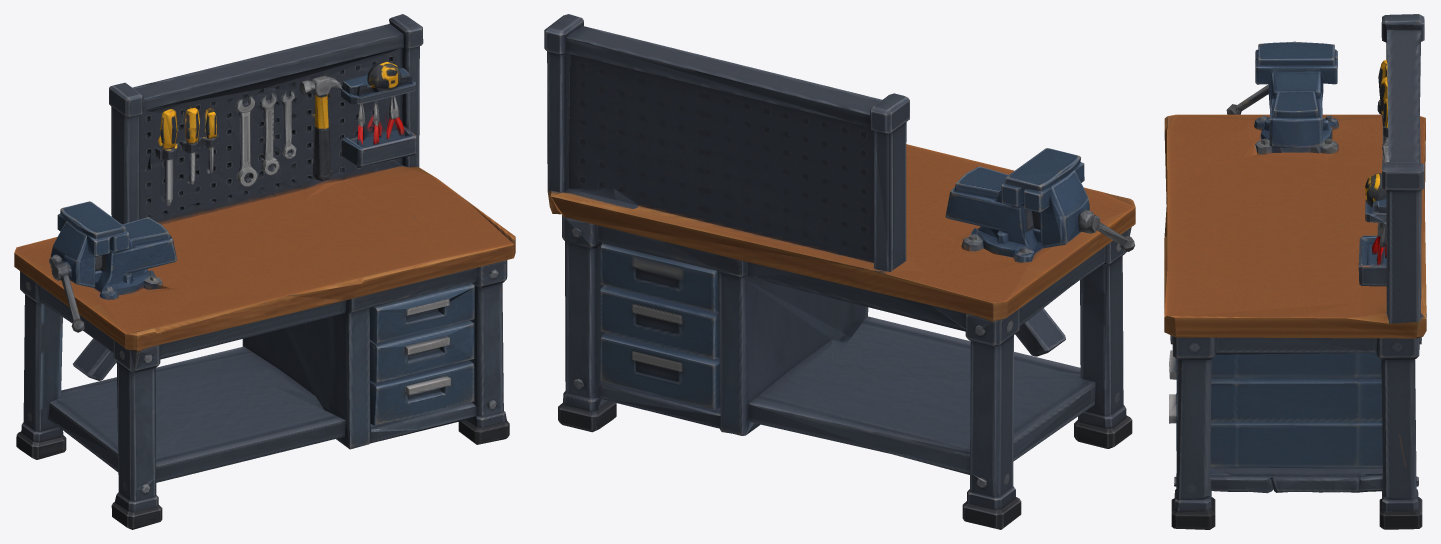
File: workbench_steel.glb
3 views of the same model, side by side, from view 1: azimuth 30°, elevation 25°; view 2: azimuth 150°, elevation 25°; view 3: azimuth 270°, elevation 25° (orthographic). The views are drawn at different scales.
Parts seen in each view (by area): view 1: Mesh_0; view 2: Mesh_0; view 3: Mesh_0.
Boxes of the visible parts, x1,y1,x2,y2 form: Mesh_0: (14,14,515,529); Mesh_0: (544,14,1135,529); Mesh_0: (1164,14,1426,529).
Size of what is drawn, in the model's own units: 1.62 by 1.25 by 0.81.
1 material, 1 textured.
